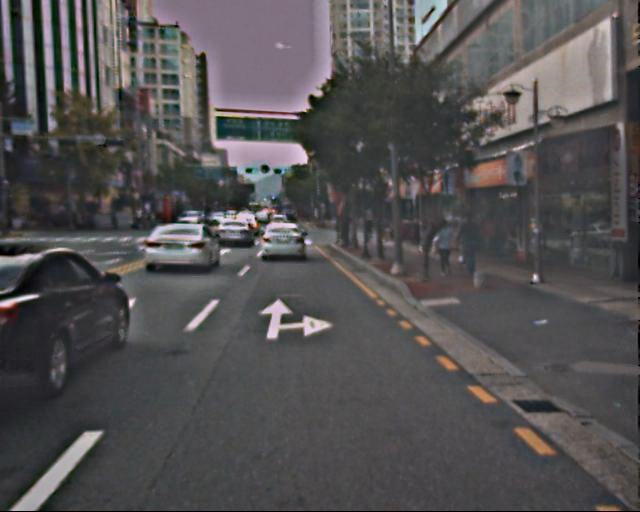person: (458, 212, 485, 277), (434, 218, 459, 278)
